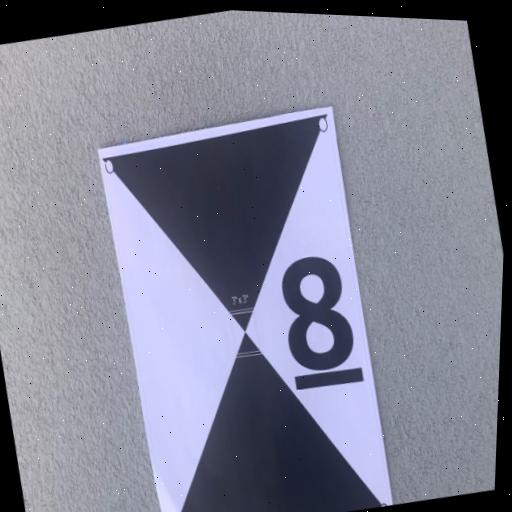target8: (83, 101, 407, 512)
